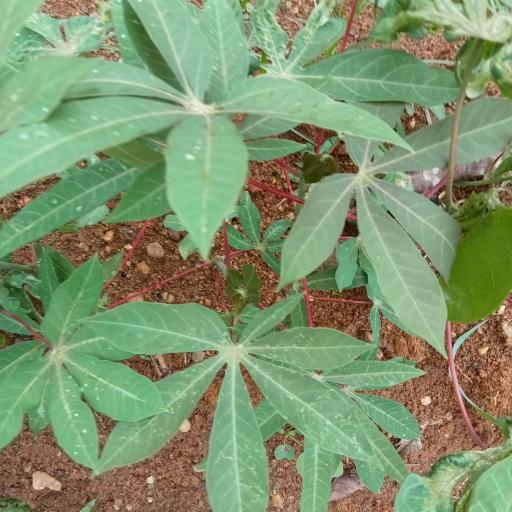Cassava_Mosaic: (0, 6, 370, 219), (103, 296, 360, 507), (297, 110, 508, 334), (0, 256, 170, 459)
